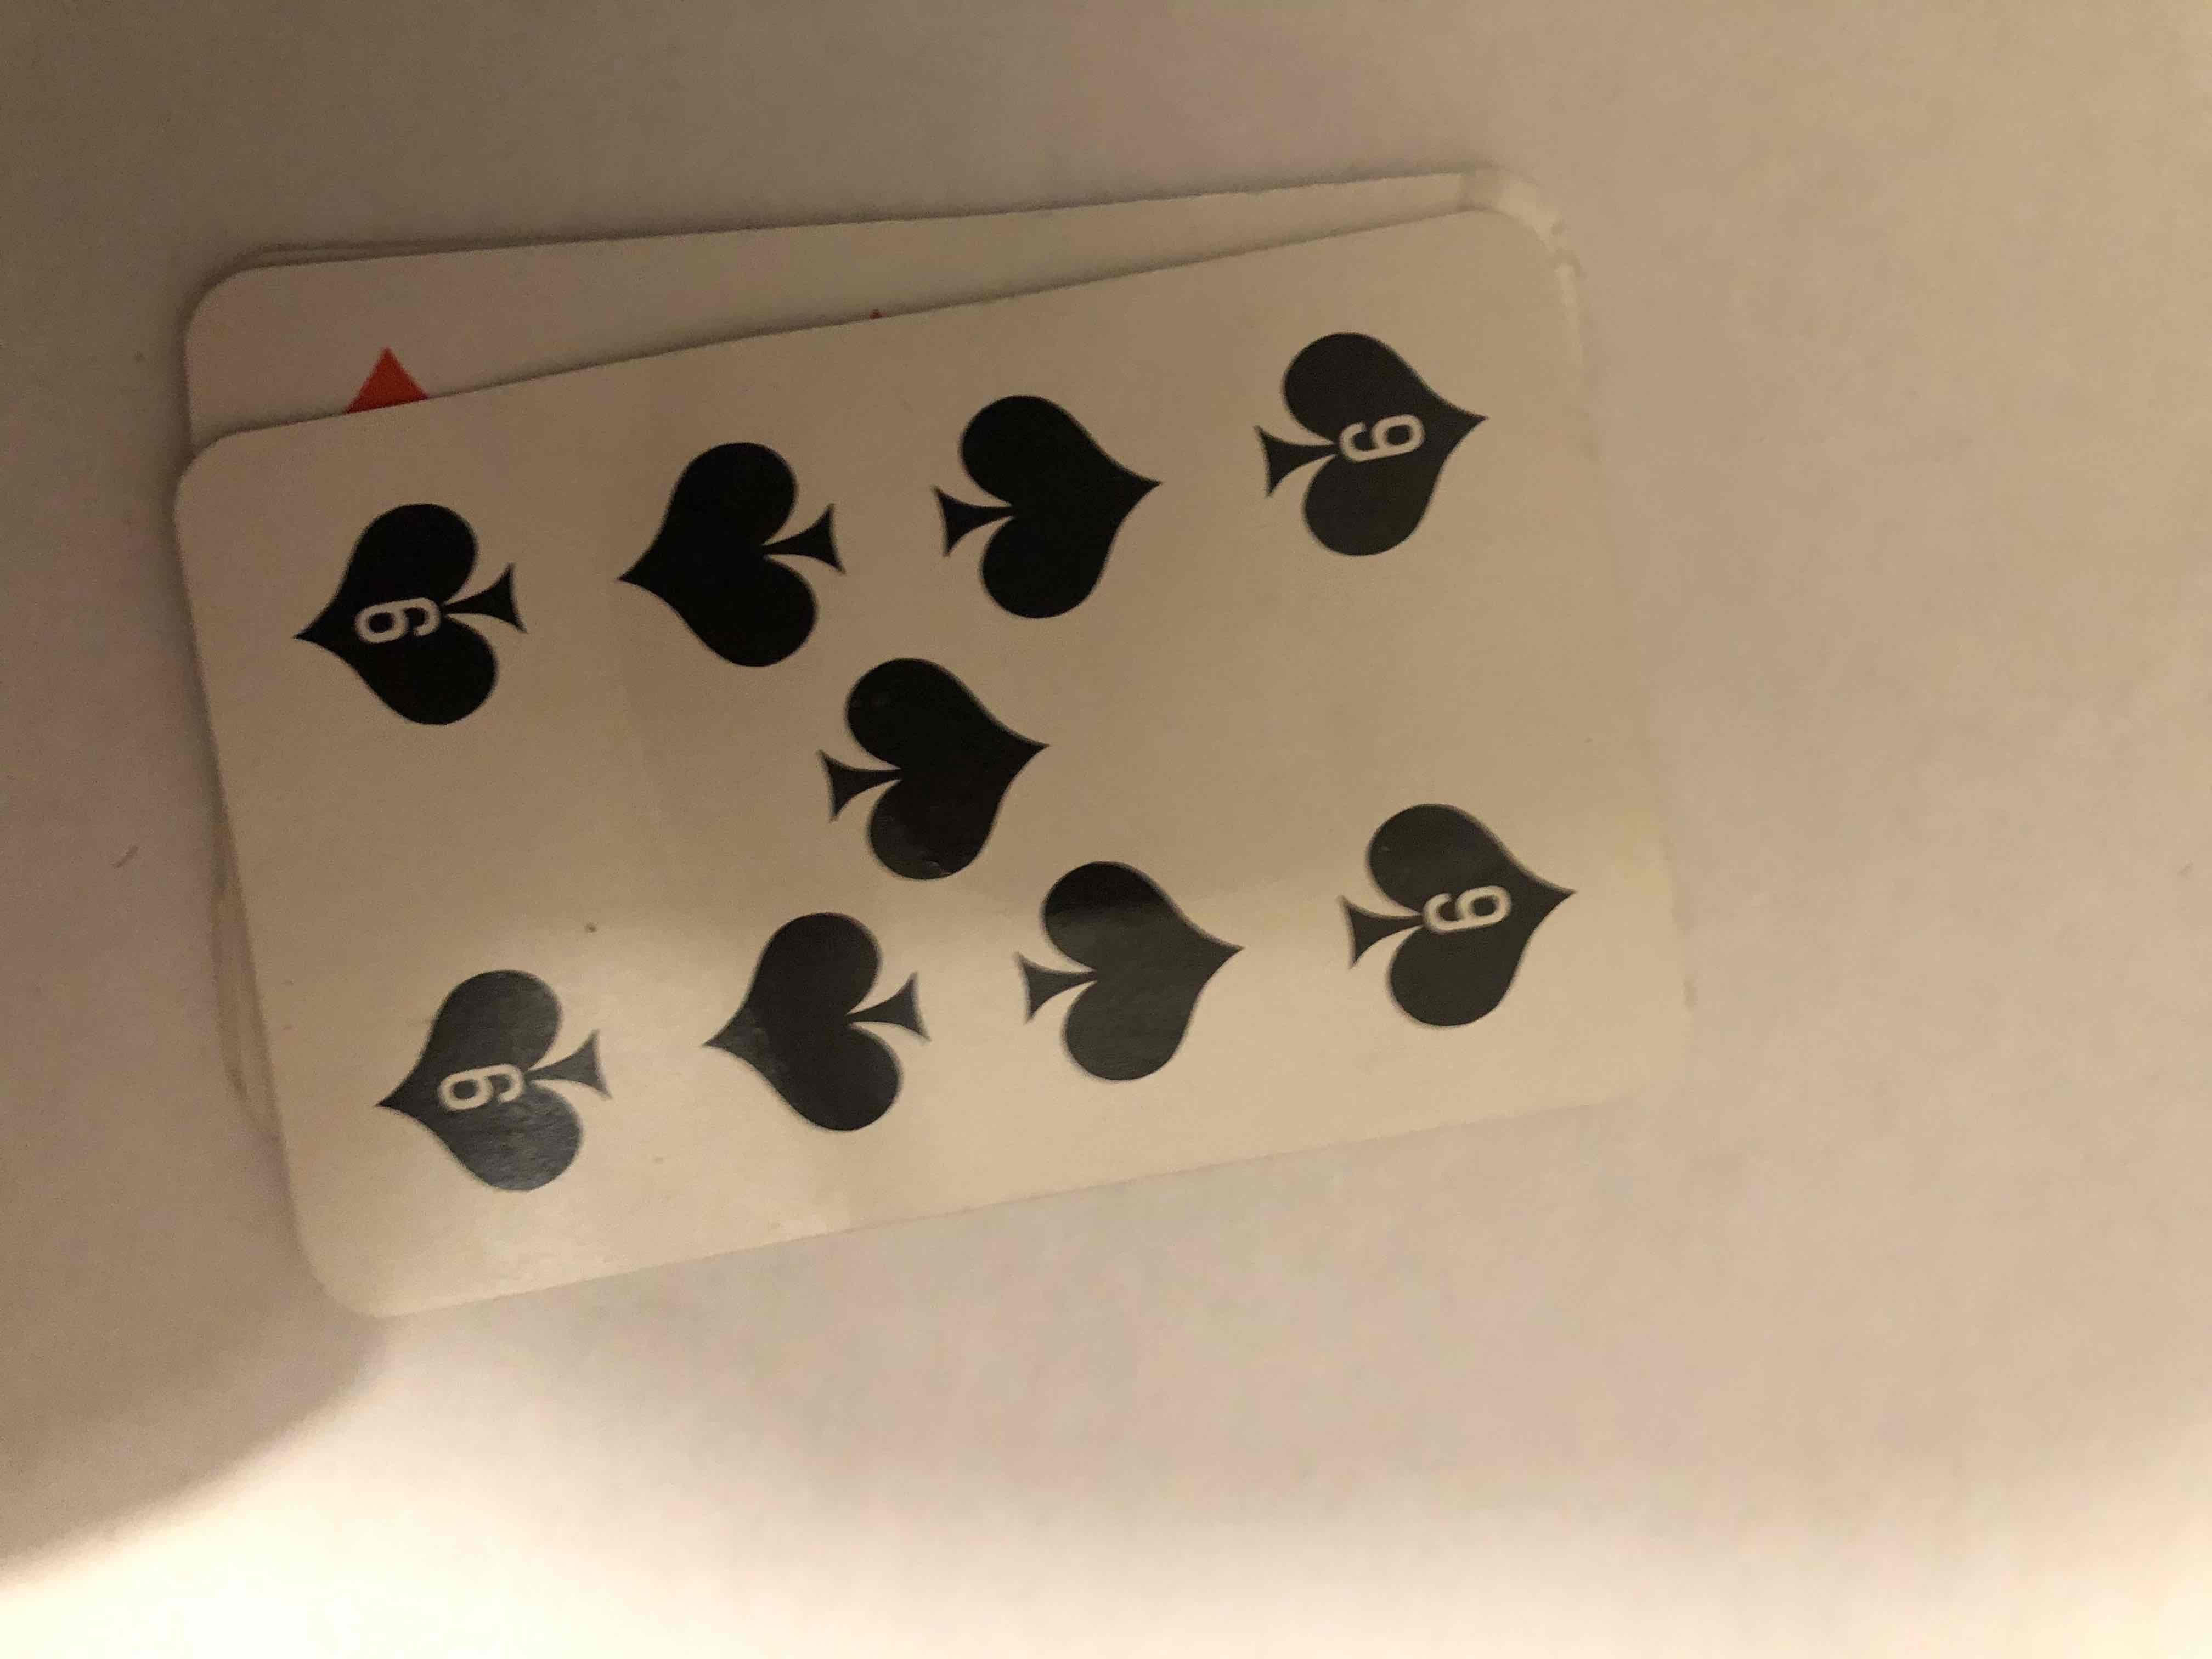spades9: (193, 209, 1700, 1201)
